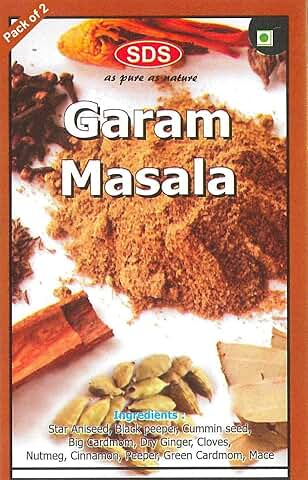Garamasala: (1, 4, 308, 480)
